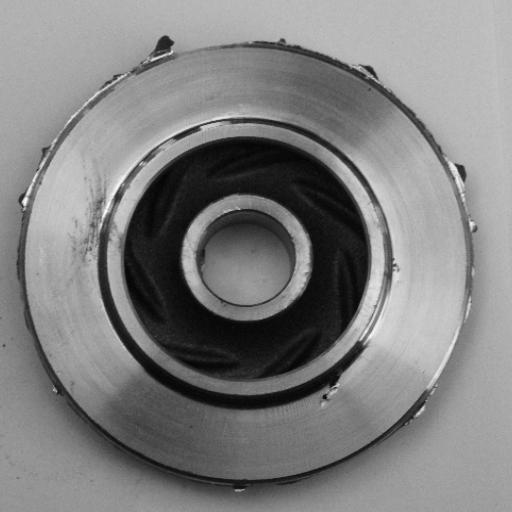casting_with_burr: (18, 29, 482, 497)
crack: (313, 335, 376, 427), (375, 235, 414, 302)
stain: (60, 153, 133, 289)
